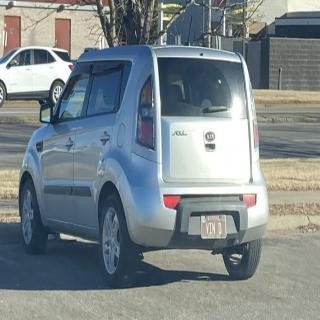license: (201, 214, 228, 240)
